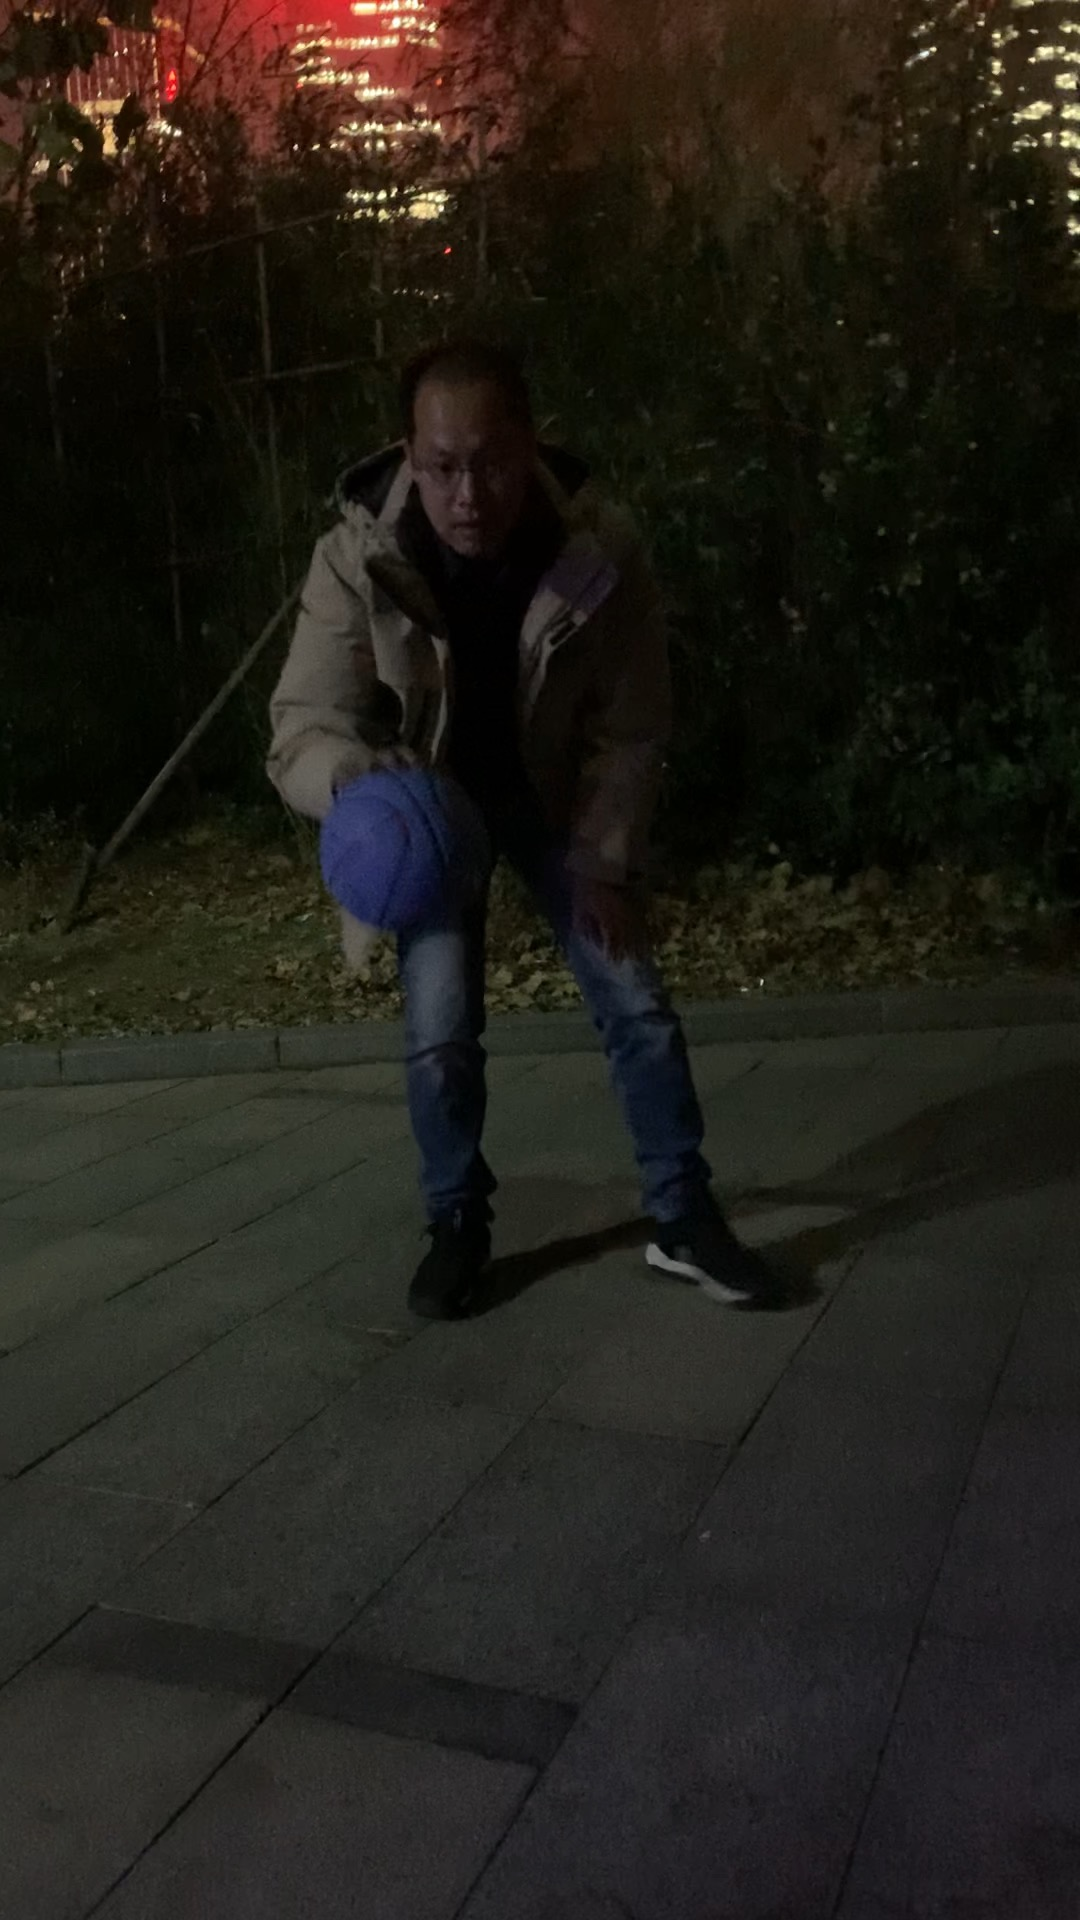ball: (318, 770, 489, 938)
